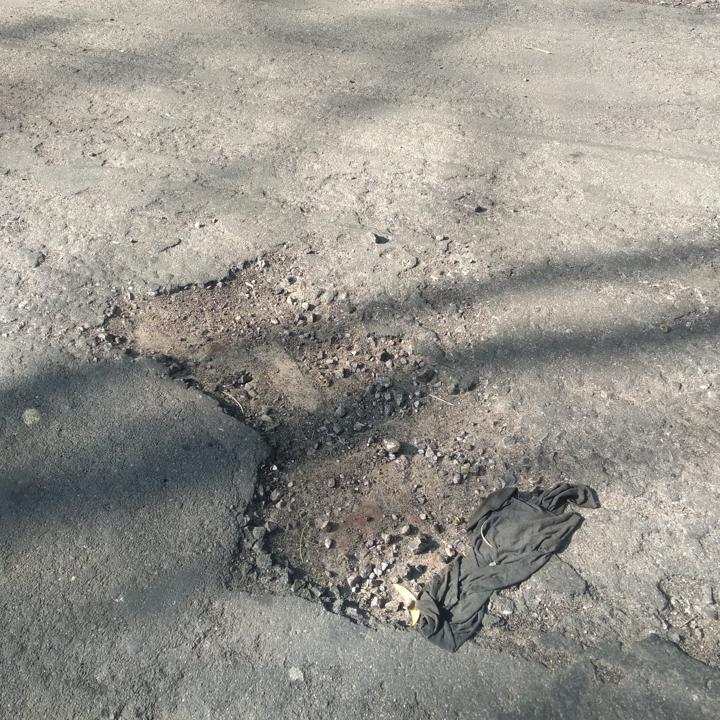pothole: (94, 242, 539, 642)
